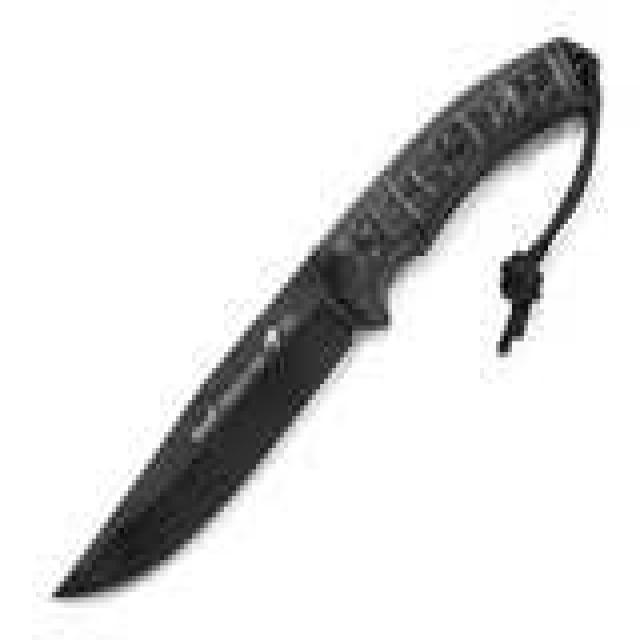Knife: (49, 0, 640, 610)
